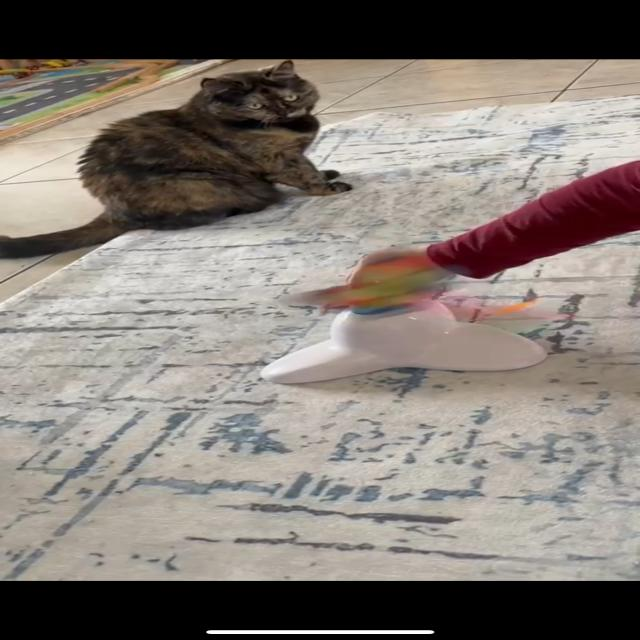authorized: (0, 59, 353, 259)
